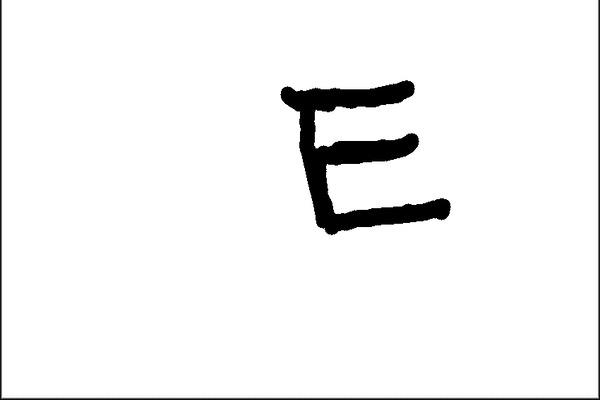E: (276, 78, 458, 237)
